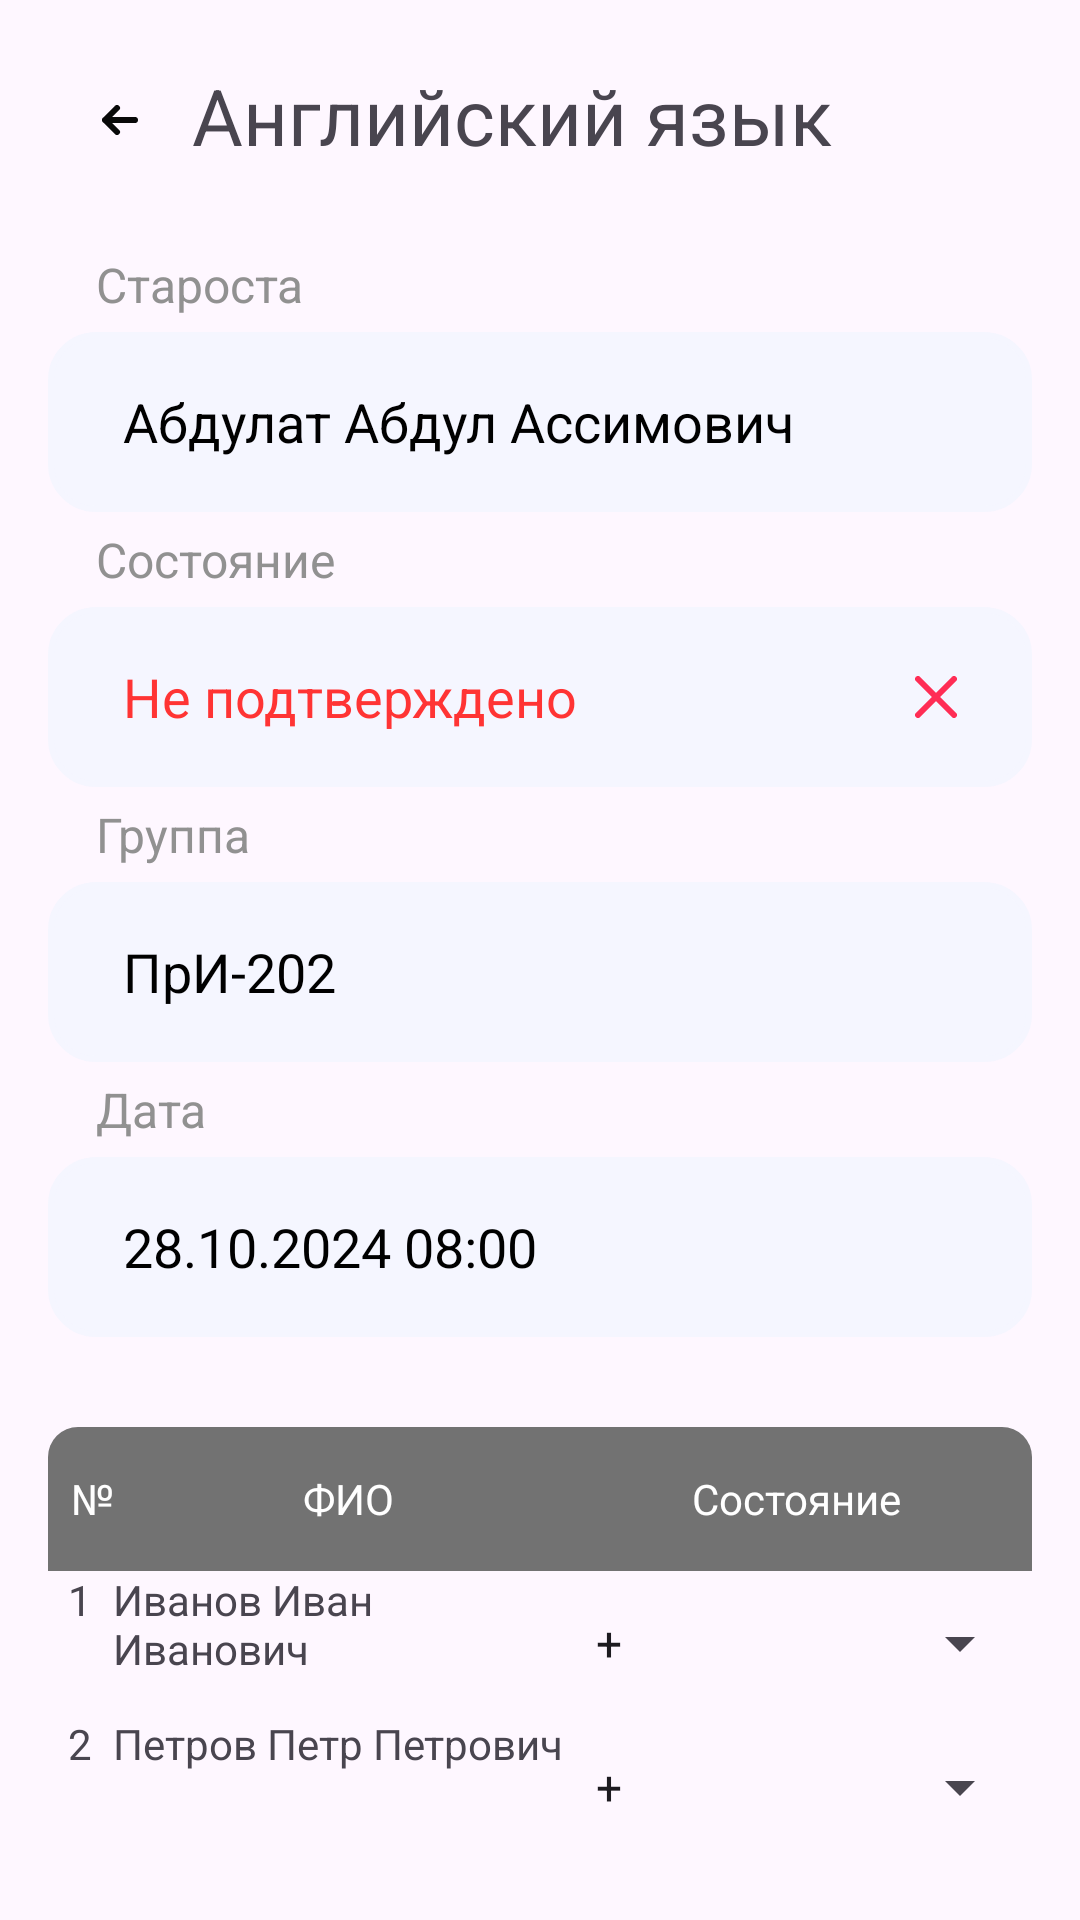

Named icons in this screenshot (1080px x 1920px) and their centers, point (x, y):
arrow: point (120, 120)
